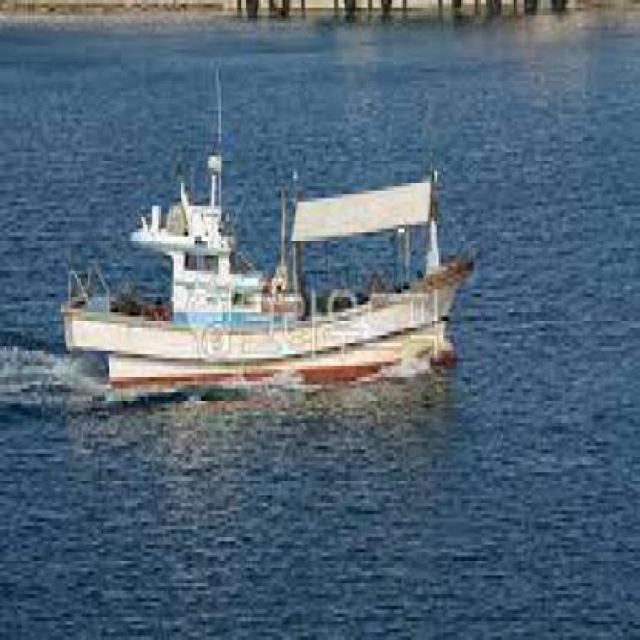fish-b: (40, 97, 489, 417)
